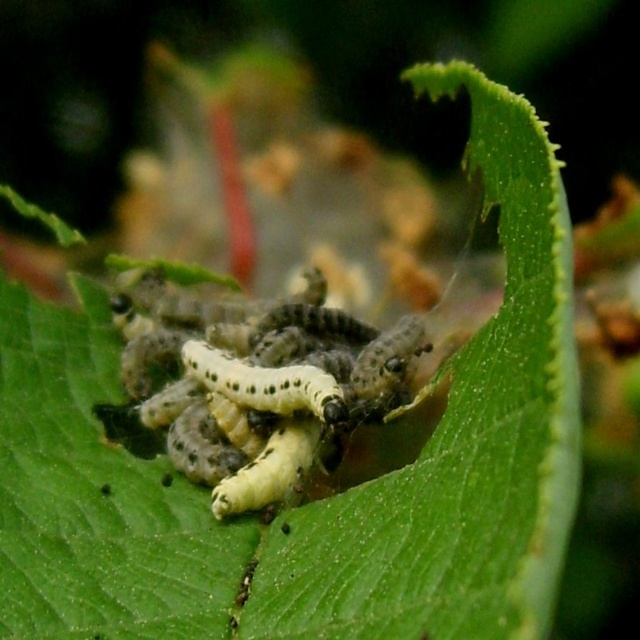Caterpillar: (110, 266, 424, 522)
